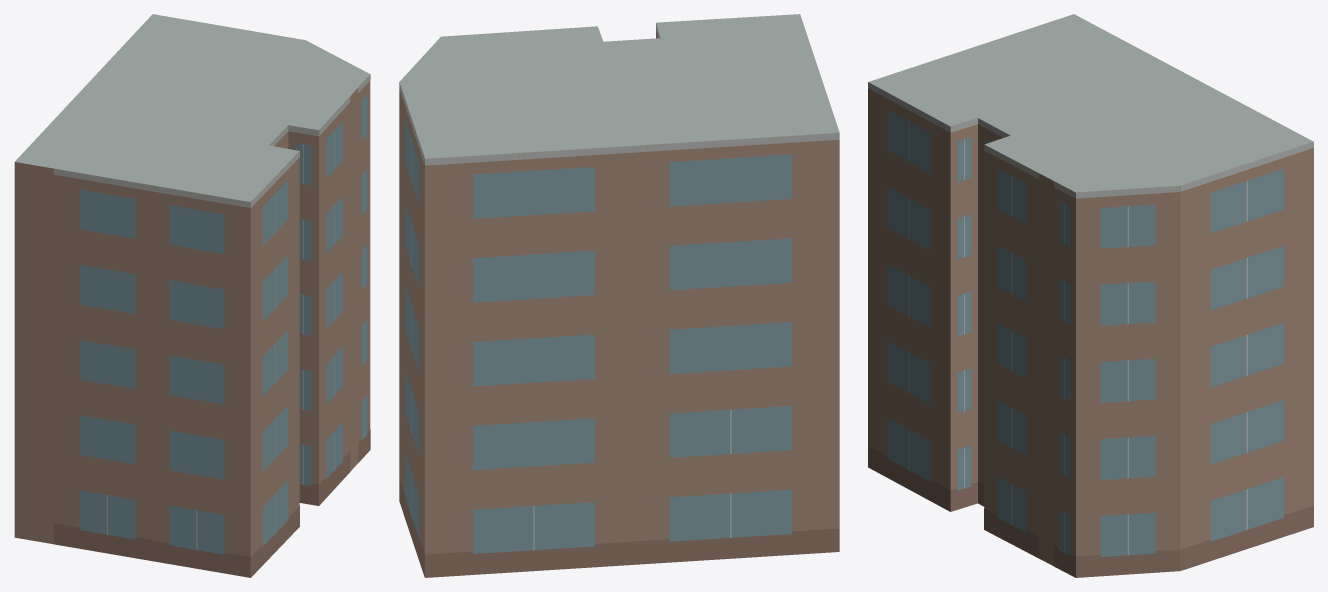
File: survey-upis-32996274.glb
The picture shows the model from 3 angles, left to right: view 1: azimuth 30°, elevation 25°; view 2: azimuth 150°, elevation 25°; view 3: azimuth 270°, elevation 25°; orthographic projection. The views are drawn at different scales.
Parts seen in each view (by area): view 1: survey-upis-32996274.tmp; view 2: survey-upis-32996274.tmp; view 3: survey-upis-32996274.tmp.
Part boxes in pixels (bbox=[...]): survey-upis-32996274.tmp: bbox=[14, 14, 370, 577]; survey-upis-32996274.tmp: bbox=[399, 14, 839, 577]; survey-upis-32996274.tmp: bbox=[868, 14, 1313, 577].
Size of the model in its own units: 15.06 by 15.15 by 15.89.
